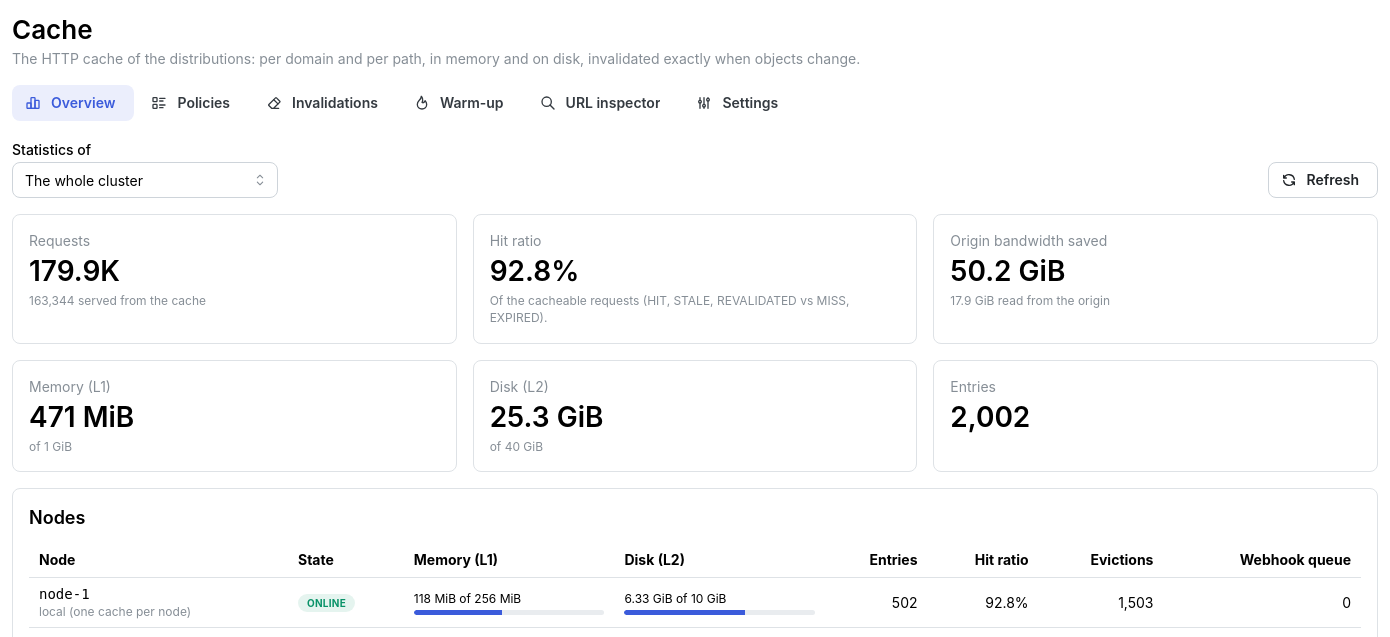
Scenario: cache pages › D-CCH-01 filters the statistics by distribution
Click the field labelled "Statistics of" at (145, 180), box x1=12 y1=162 x2=278 y2=198
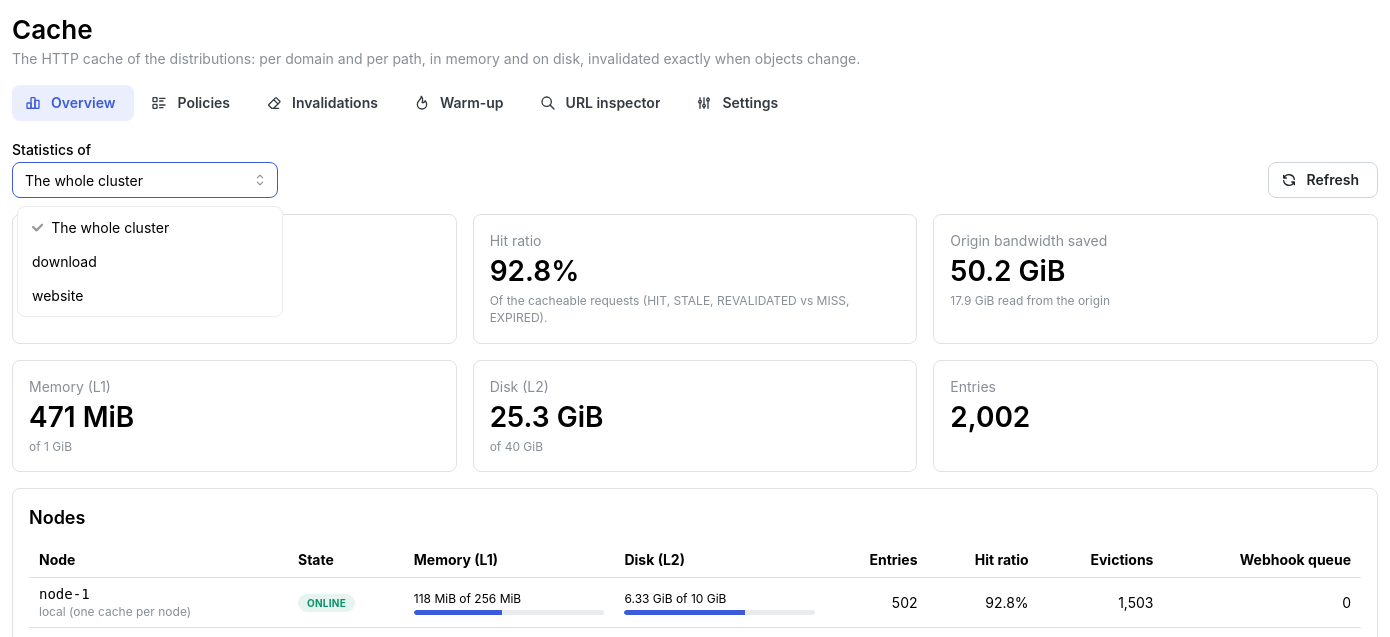
Click the option "download" at (64, 261), box x1=32 y1=253 x2=97 y2=270
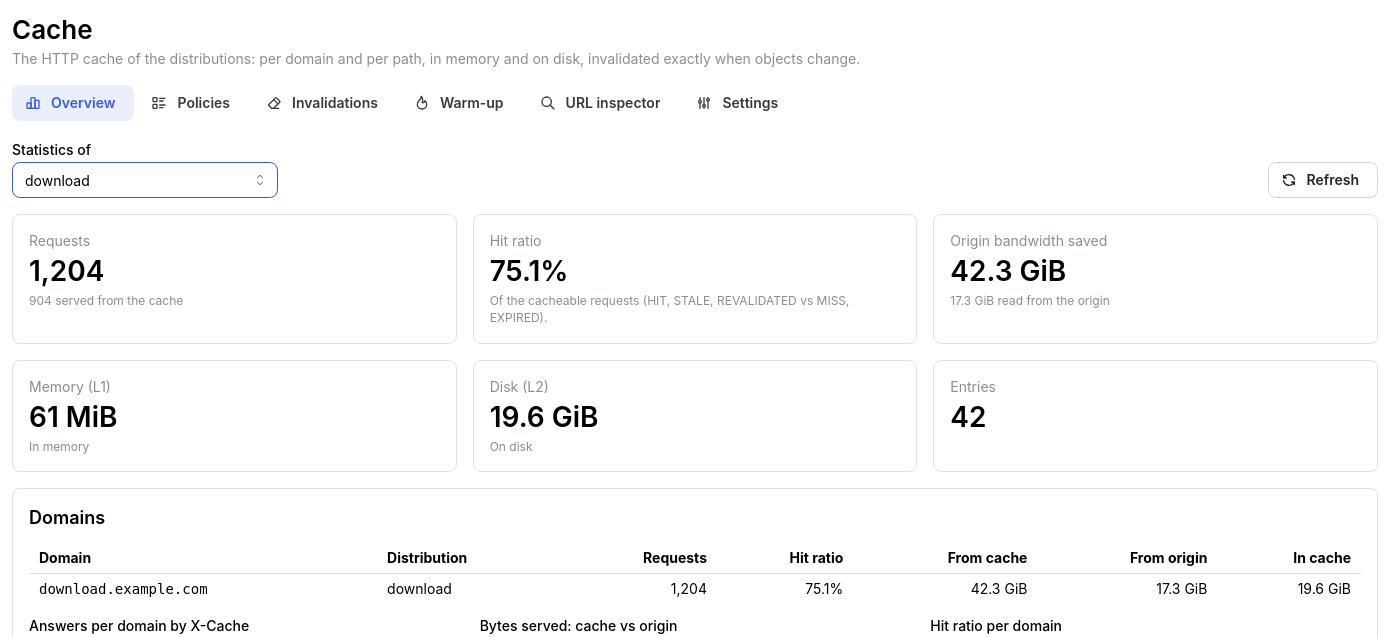
Now the table named "Domains" shows "download.example.com", box x1=39 y1=581 x2=208 y2=597
